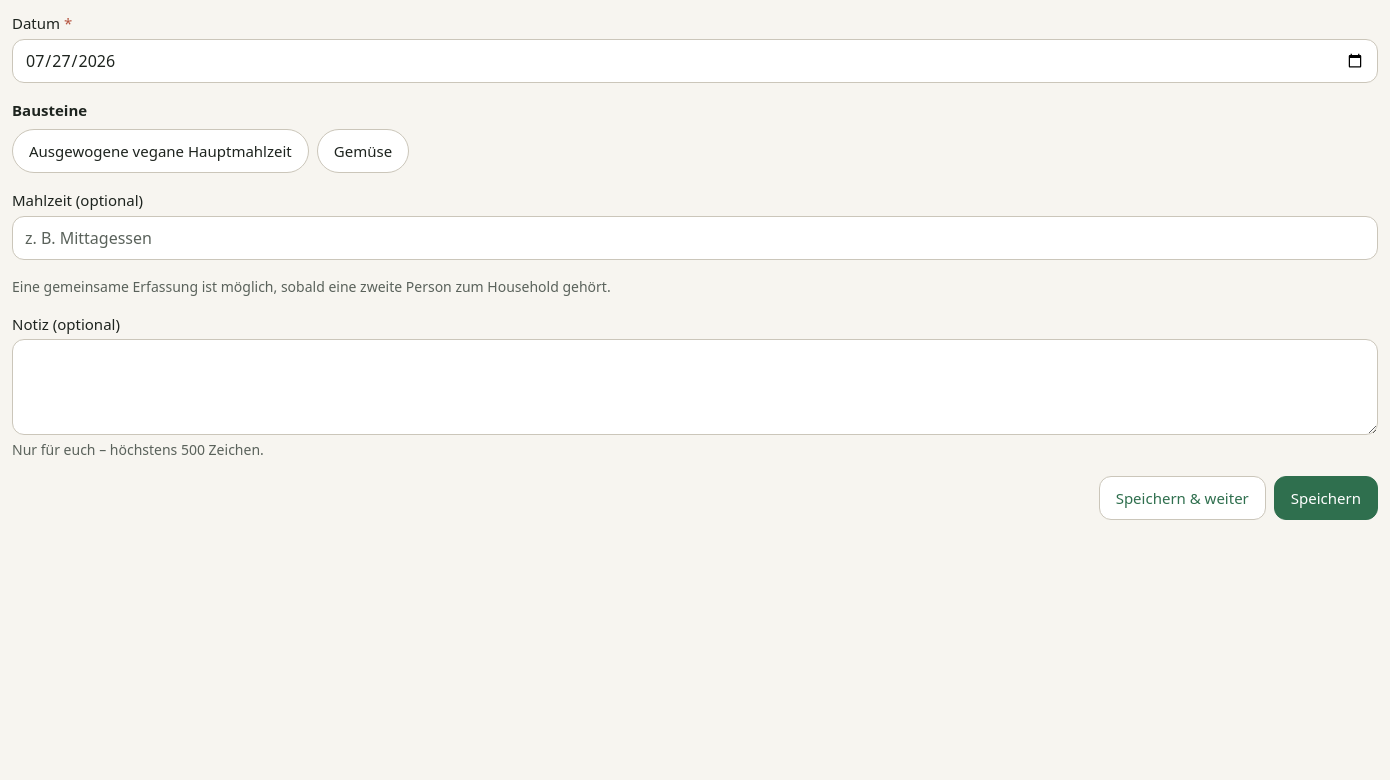
Test: RitualForm › blocks an empty selection with a message
Click the button "Speichern" at x=1326, y=498, box 1274,476 -> 1378,520
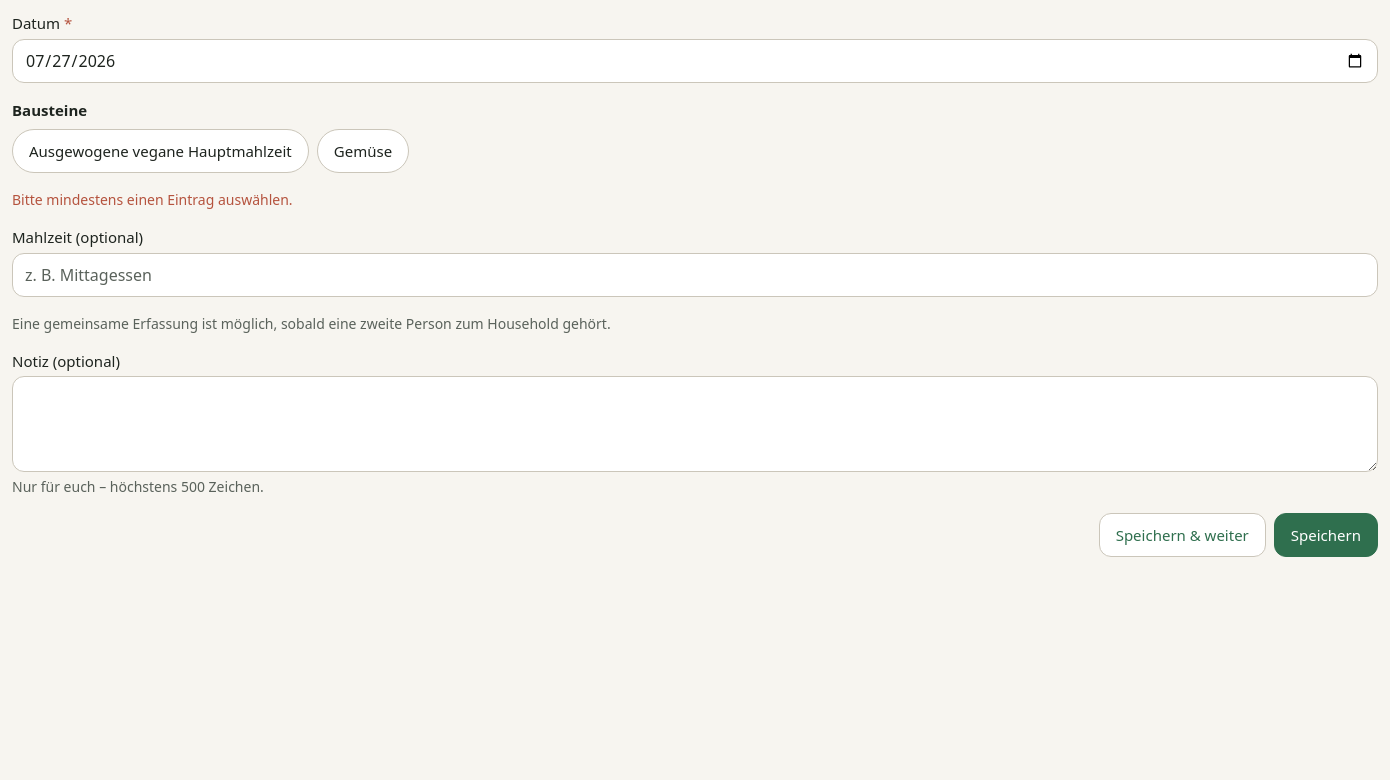
Now the text "Bitte mindestens einen Eintrag auswählen." is shown, box 12,190 -> 293,209
